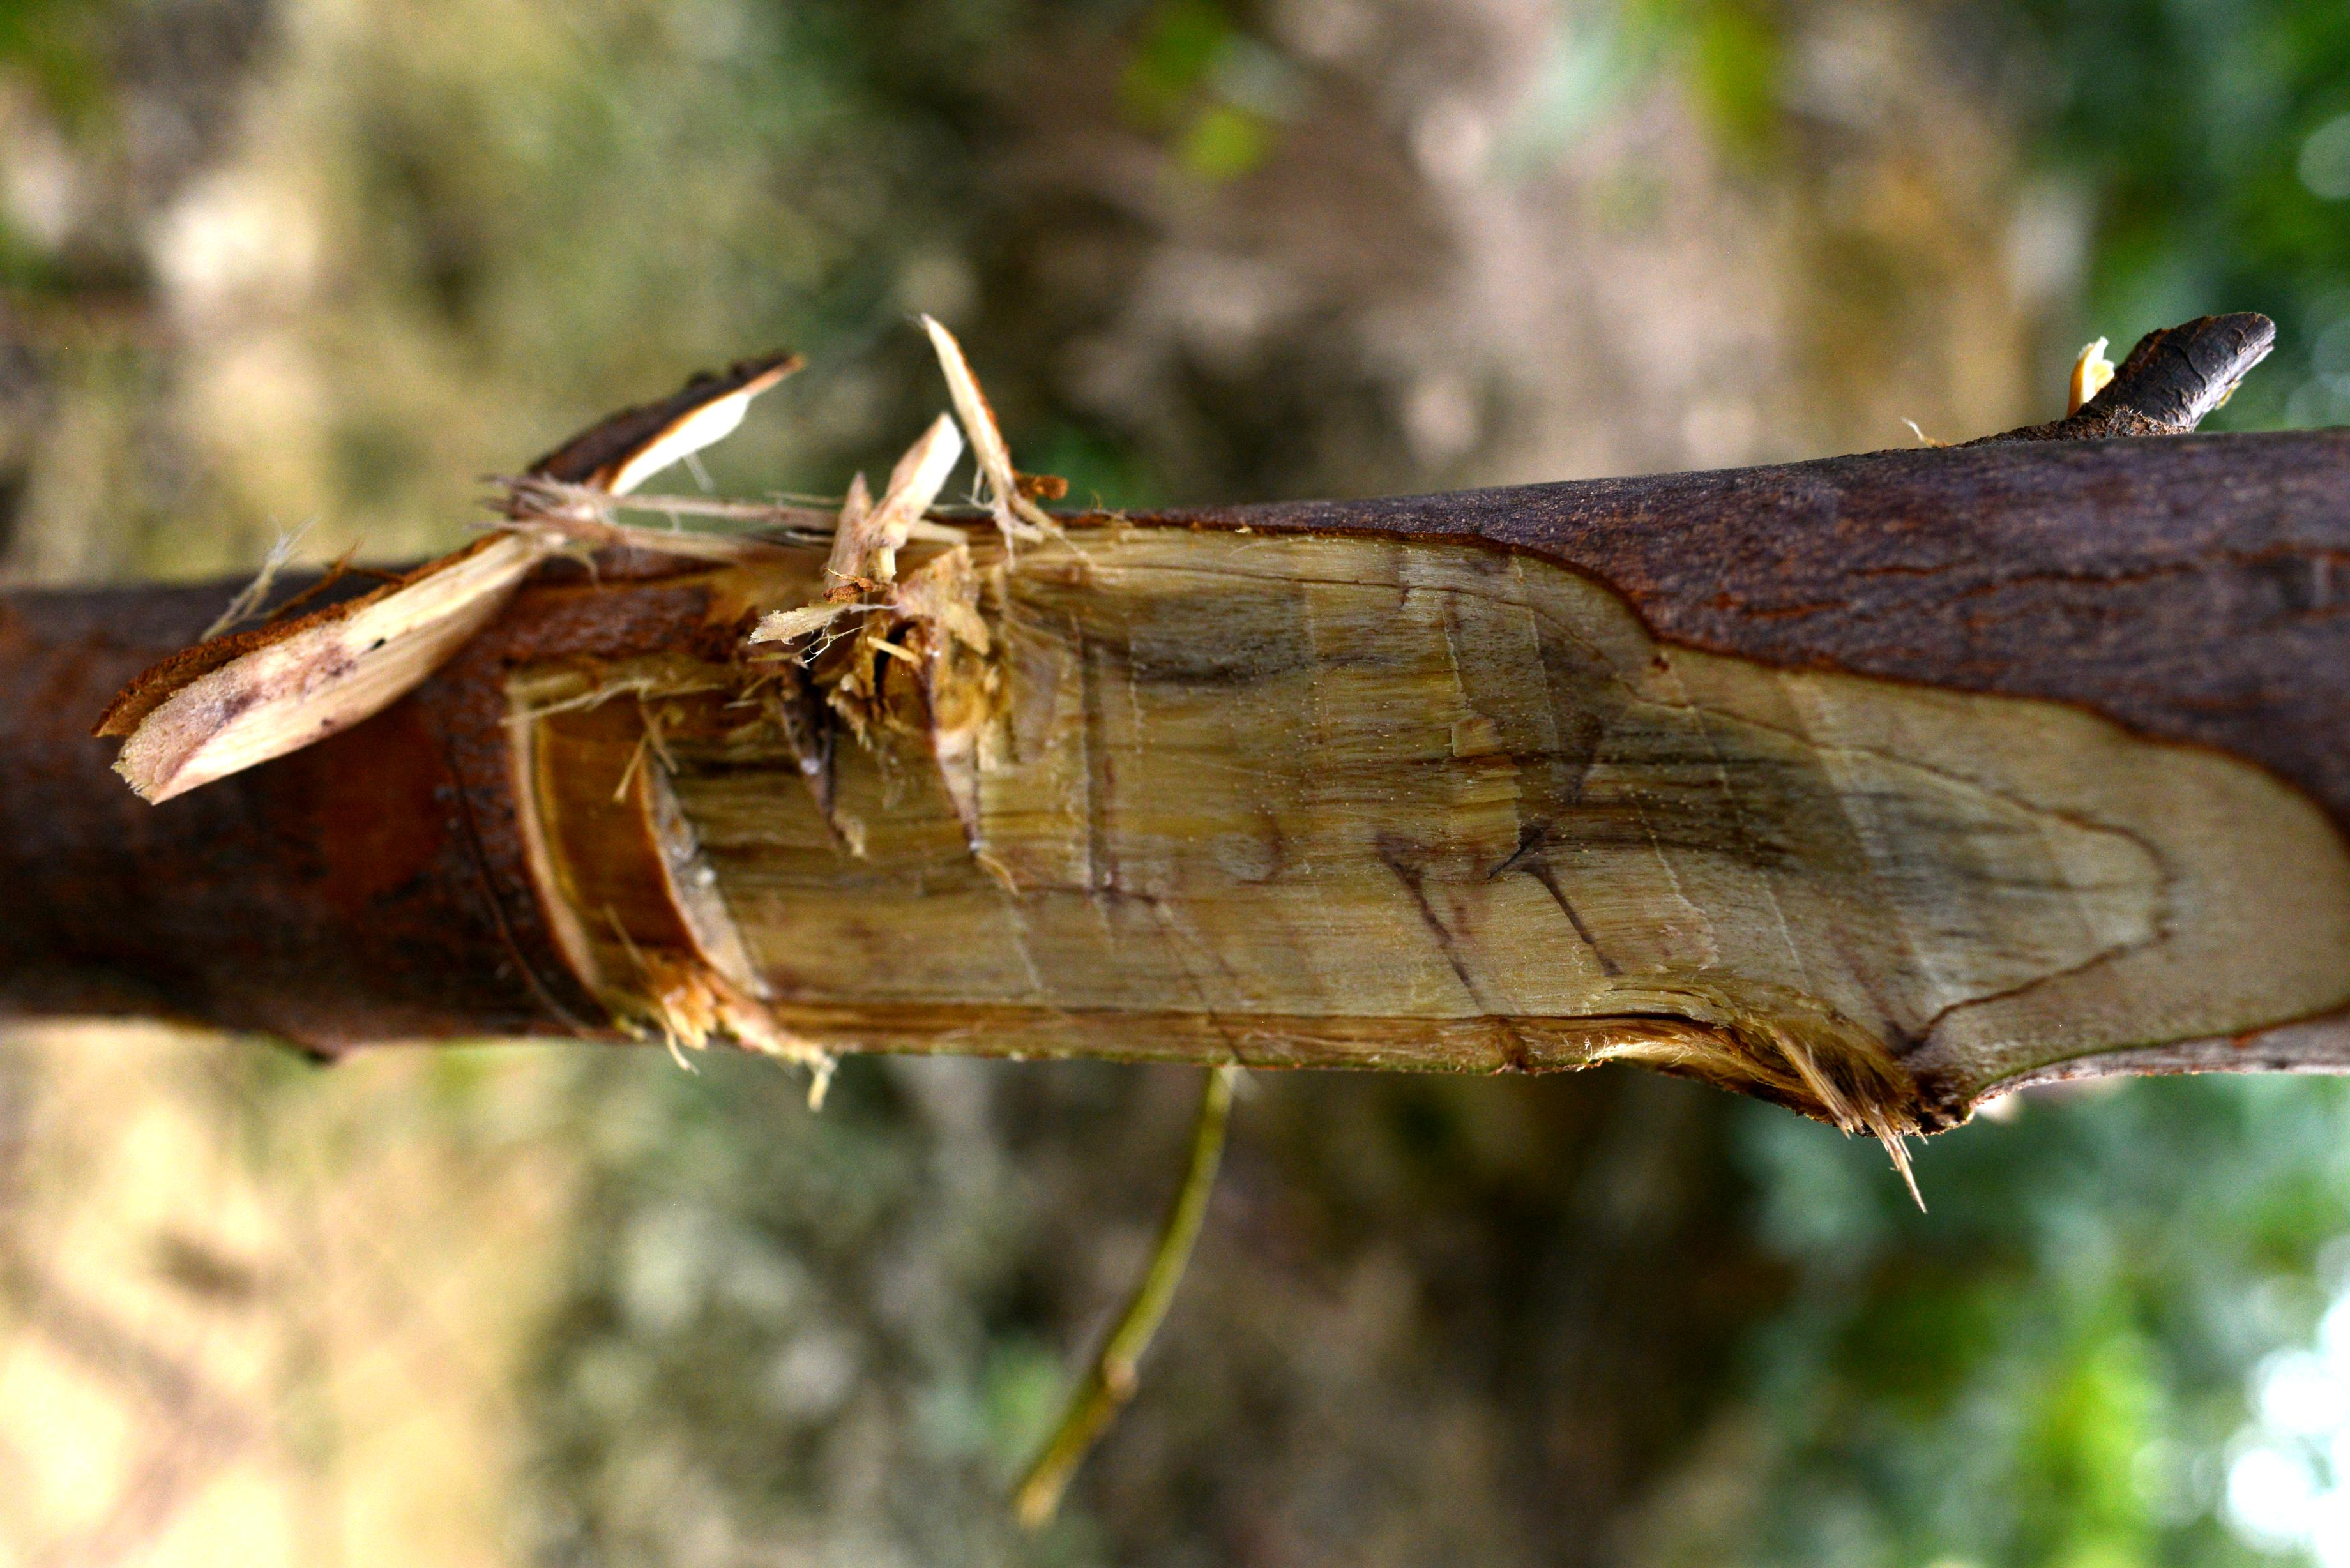Ralstonia: (553, 562, 2268, 1071)
